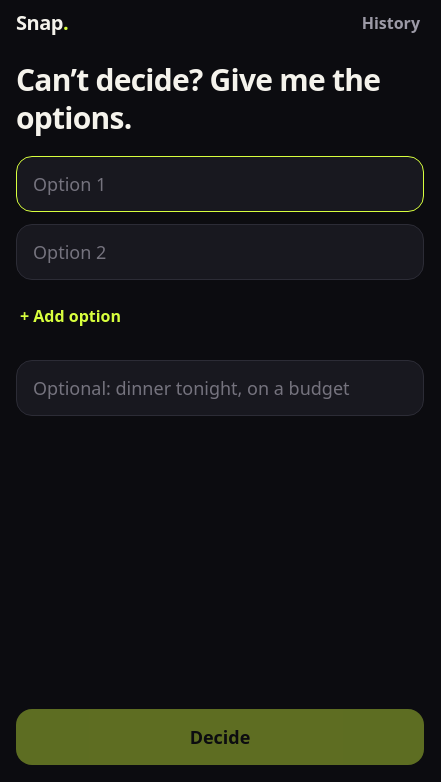
Scenario: failed or low-confidence classification › never shows a pick when classification fails, even though decide succeeded
This screenshot has width=441, height=782.
In the field labelled "Option 1": (220, 184) top-left (16, 156), bottom-right (424, 212), type "a"
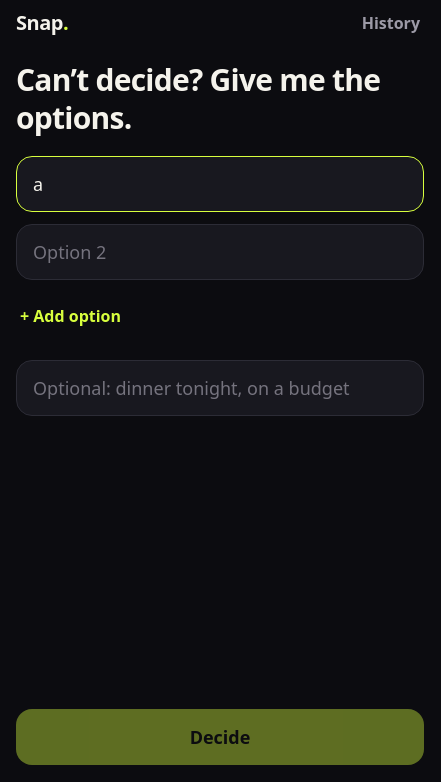
In the field labelled "Option 2": (220, 252) top-left (16, 224), bottom-right (424, 280), type "b"
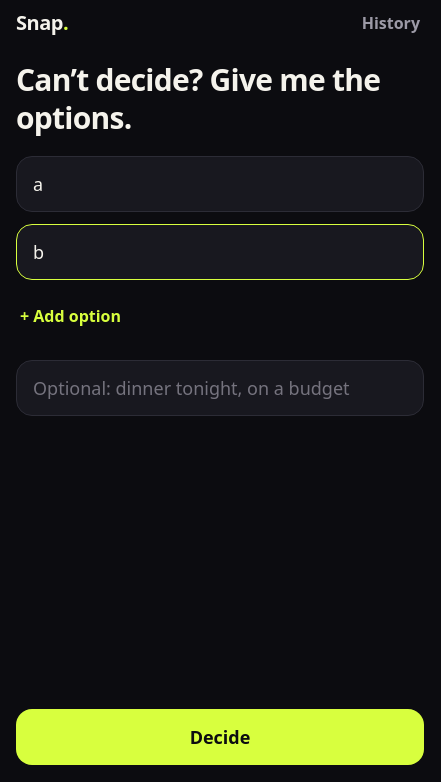
Click the button "Decide": (220, 737) top-left (16, 709), bottom-right (424, 765)
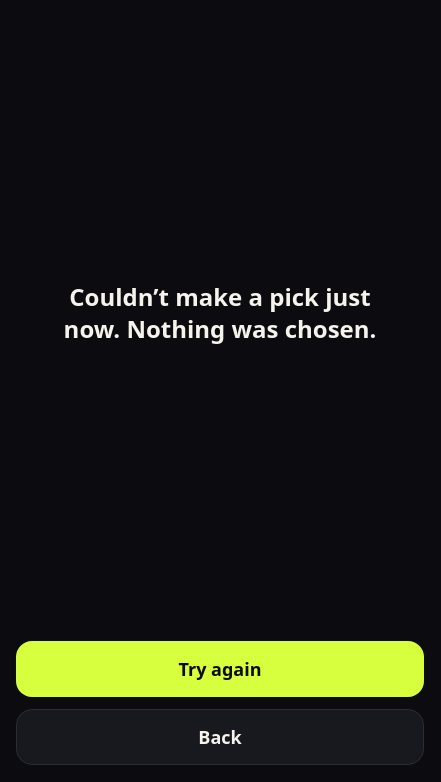
Now the button "Try again" is shown, box top-left (16, 641), bottom-right (424, 697)
